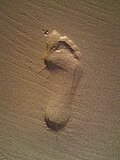human_foot_print: (43, 30, 82, 130)
